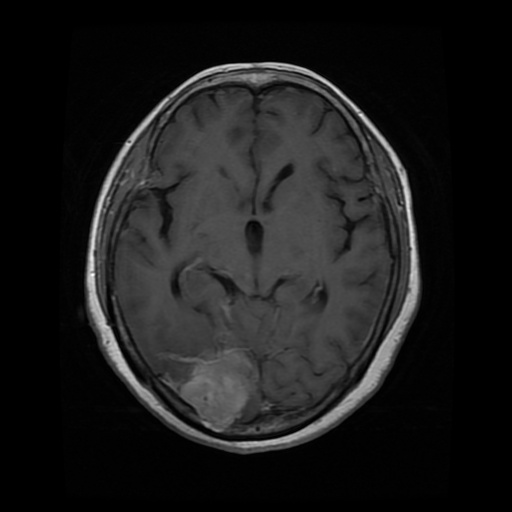meningioma: (178, 341, 257, 427)
